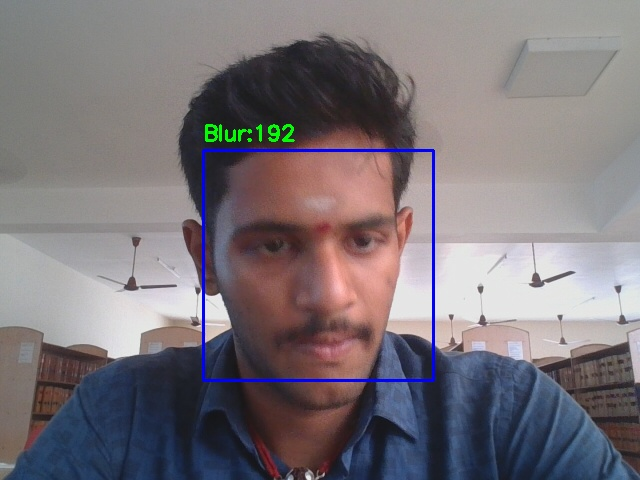real: (203, 150, 433, 380)
